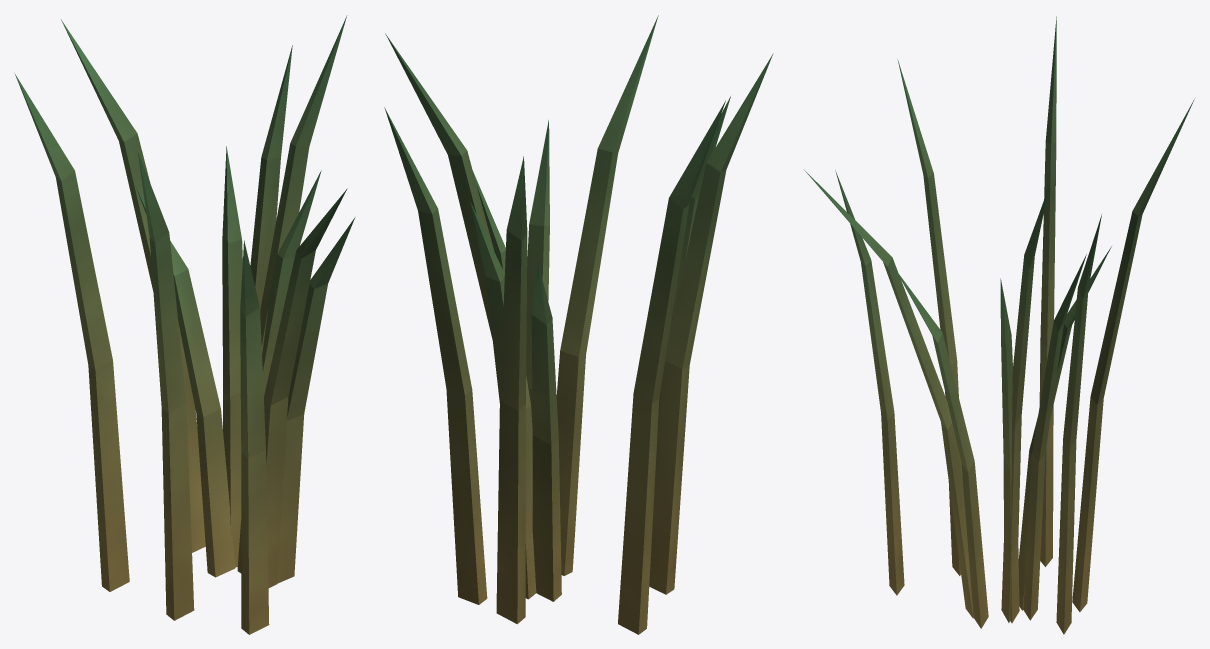
Rendered from reed_clump_a.glb.
The picture shows the model from 3 angles, left to right: view 1: azimuth 30°, elevation 25°; view 2: azimuth 150°, elevation 25°; view 3: azimuth 270°, elevation 25°; orthographic projection. The views are drawn at different scales.
Visible parts, largest first — view 1: reed_clump_a; view 2: reed_clump_a; view 3: reed_clump_a.
Part boxes in pixels (box(x1,y1,x2,y2)): reed_clump_a: box(14, 15, 355, 634); reed_clump_a: box(384, 15, 773, 634); reed_clump_a: box(803, 16, 1195, 634).
Size of the model in its own units: 0.9306 by 1.44 by 1.02.
Materials: 1 (1 with a texture image).
